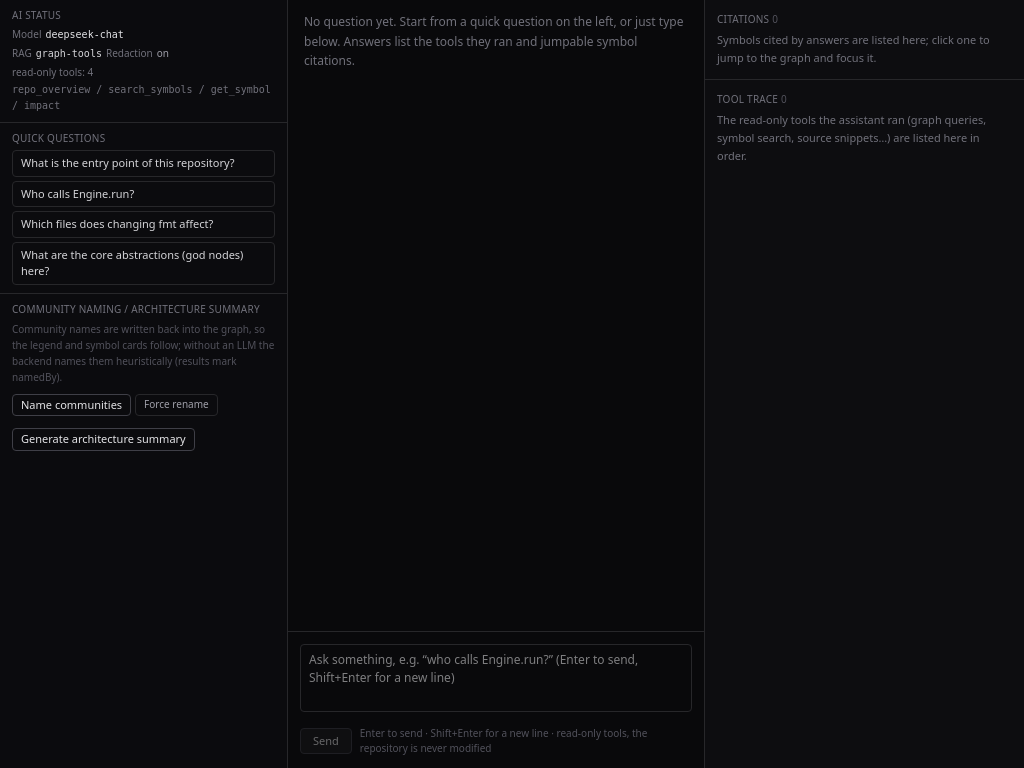
Scenario: AskView 对话 › 工具轨迹：默认折叠，展开后能看到参数与 tool_result.summary
Check: the text "deepseek-chat" is shown, box [46, 27, 124, 42]
Replace the text in the text box with test id "ask-input" with "谁调用了 Engine.run": x=496, y=678 [300, 644, 692, 712]
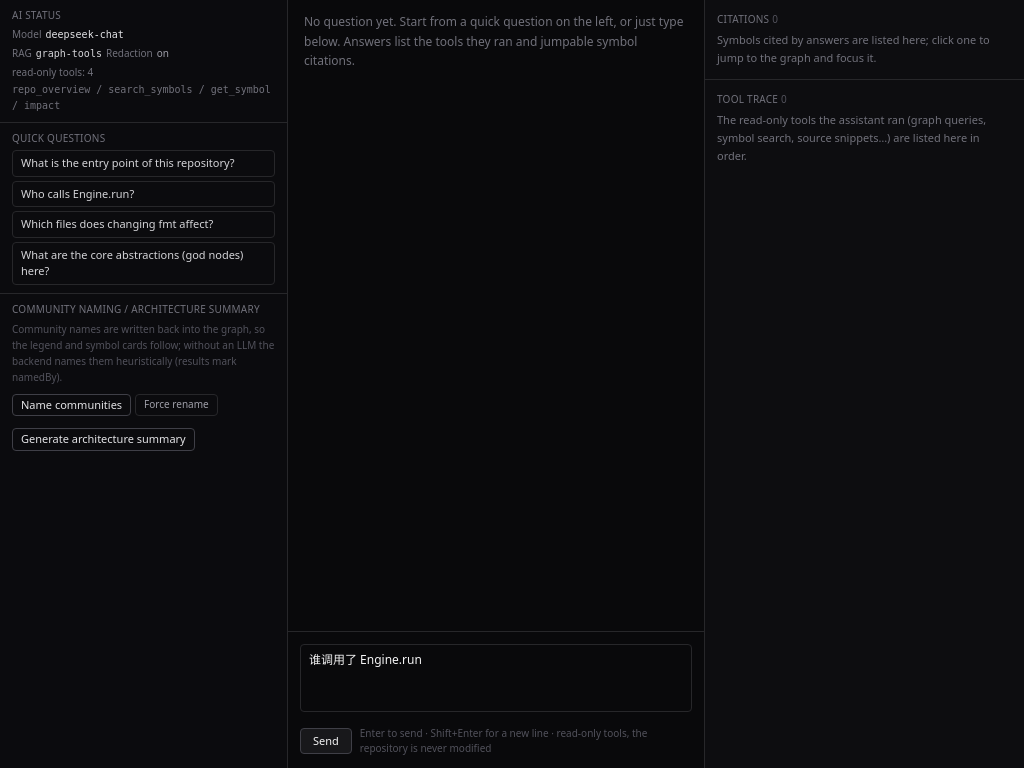
Click the button with test id "ask-send": x=326, y=741 [300, 728, 352, 754]
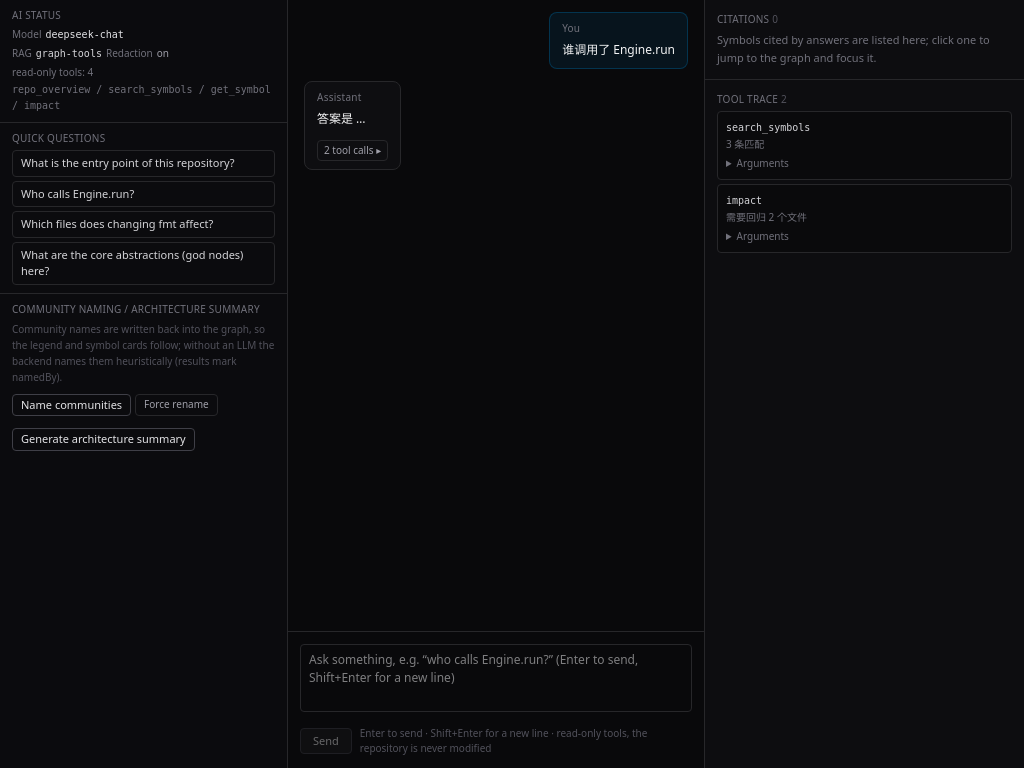
Check: the button with test id "ask-tools-toggle" shows "2 tool calls"
Click the button with test id "ask-tools-toggle": x=353, y=150 [317, 140, 388, 161]
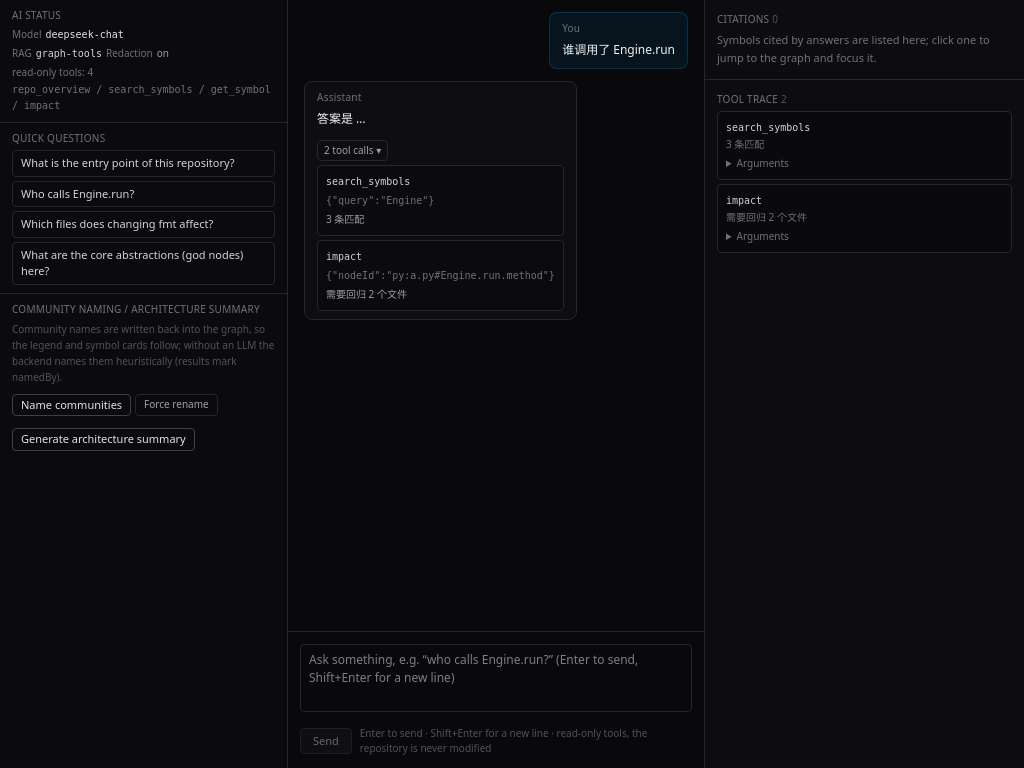
Check: the button with test id "ask-tools-toggle" is expanded, box [317, 140, 388, 161]
Check: the number of list items with test id "ask-tool-item" is 2, box [317, 165, 564, 236]; [317, 240, 564, 311]
Check: the text with test id "ask-tool-args" reads "{\"query\":\"Engine\"}", box [326, 195, 434, 206]
